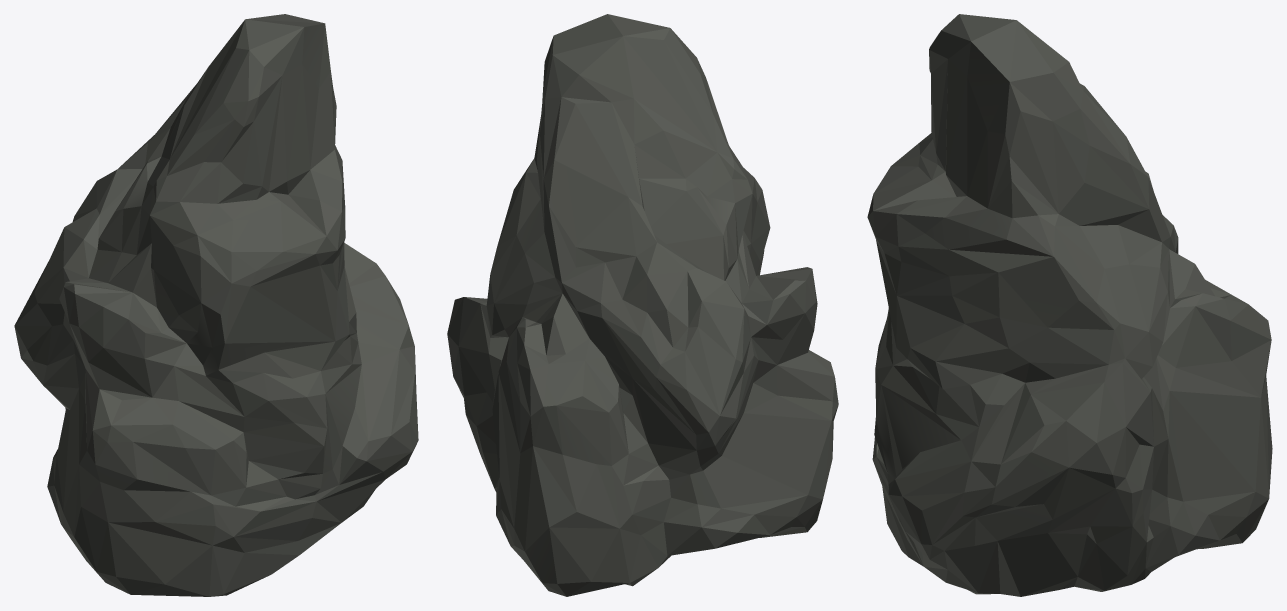
The model's file is Rock_Cliff_03.fbx.
3 views of the same model, side by side, from view 1: azimuth 30°, elevation 25°; view 2: azimuth 150°, elevation 25°; view 3: azimuth 270°, elevation 25° (orthographic). The views are drawn at different scales.
Visible parts, largest first — view 1: Rock_Cliff_03; view 2: Rock_Cliff_03; view 3: Rock_Cliff_03.
Part boxes in pixels (x1,y1,x2,y2): Rock_Cliff_03: (14, 14, 418, 596); Rock_Cliff_03: (447, 14, 838, 596); Rock_Cliff_03: (867, 14, 1272, 596).
Bounding box in the file's own units: 1003 × 1415 × 926.
Materials: 1 (1 with a texture image).
